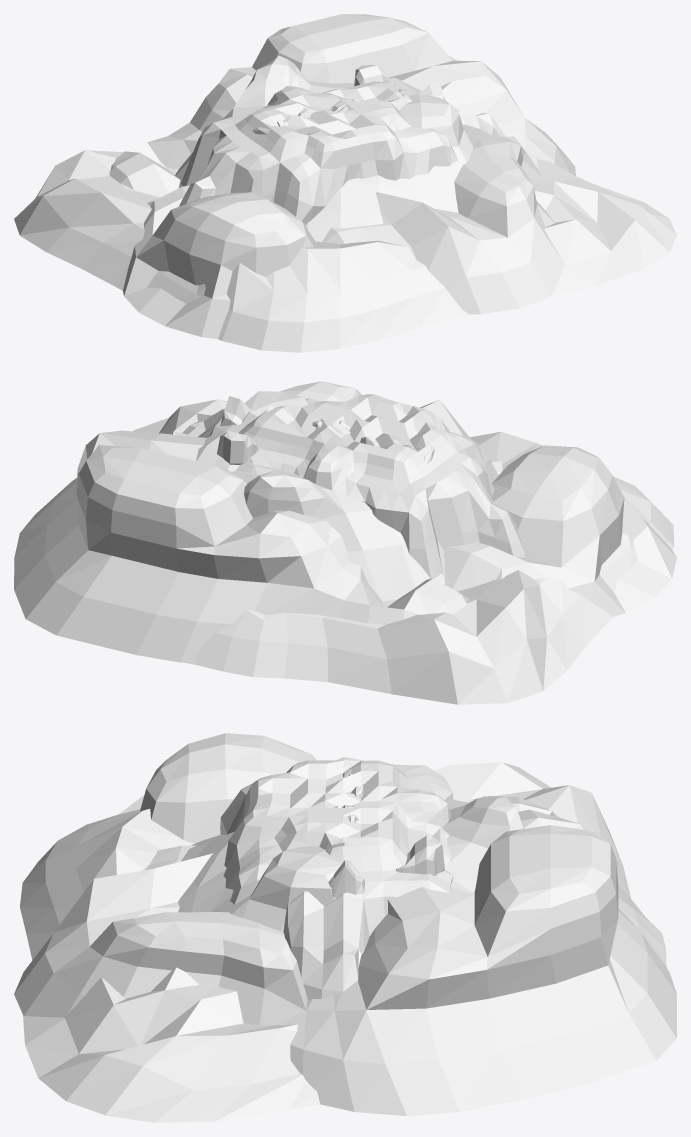
Rendered from mountains_kit.glb.
3 views of the same model, one above another, from view 1: azimuth 30°, elevation 25°; view 2: azimuth 150°, elevation 25°; view 3: azimuth 270°, elevation 25° (orthographic). The views are drawn at different scales.
Parts seen in each view (by area): view 1: Hill_winter_002, Hill_winter_001, Plateau_winter_001, Mountain_winter_007; view 2: Hill_winter_002, Hill_winter_001, Plateau_winter_001, Mountain_winter_007, Mountain_winter_004; view 3: Hill_winter_002, Hill_winter_001, Plateau_winter_001, Mountain_winter_007, Mountain_winter_004.
Part boxes in pixels (x1,y1,x2,y2): Hill_winter_002: (109,14,575,339); Hill_winter_001: (14,55,676,352); Plateau_winter_001: (179,77,505,225); Mountain_winter_007: (354,65,393,86); Hill_winter_002: (14,381,676,662); Hill_winter_001: (133,391,674,704); Plateau_winter_001: (171,394,524,578); Mountain_winter_007: (217,431,258,464); Mountain_winter_004: (220,396,251,425); Hill_winter_002: (14,733,676,1115); Hill_winter_001: (20,762,667,1122); Plateau_winter_001: (220,757,453,1000); Mountain_winter_007: (396,835,444,876); Mountain_winter_004: (325,860,364,905).
Bounding box in the file's own units: 4.32 × 1 × 3.81.
Materials: 13 (13 with a texture image).
